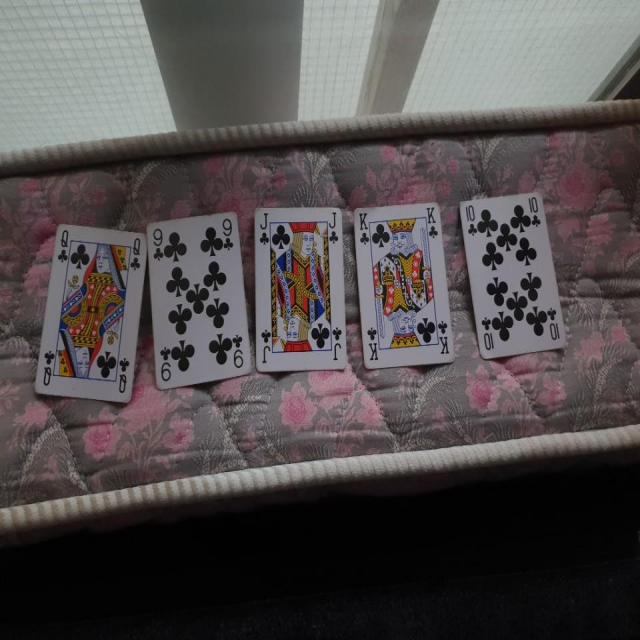10 Trefoils: (459, 190, 566, 361)
9 Trefoils: (145, 210, 252, 389)
J Trefoils: (251, 207, 346, 376)
K Trefoils: (353, 200, 458, 369)
Q Trefoils: (35, 222, 146, 407)
